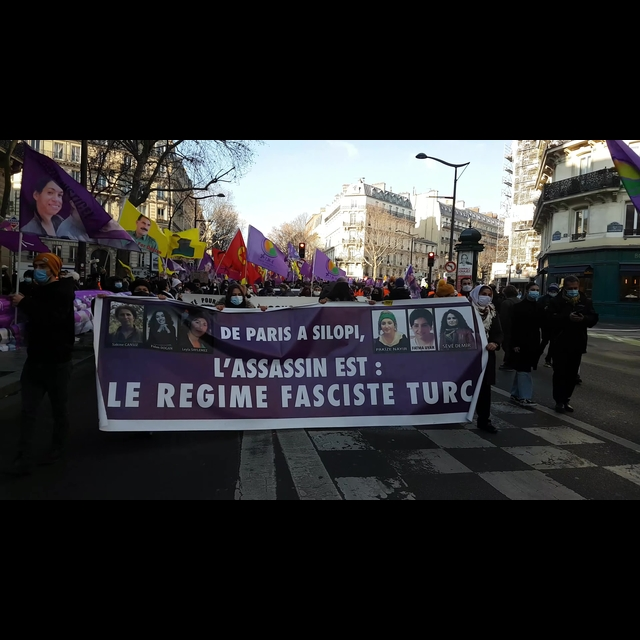APO: (131, 213, 154, 237)
